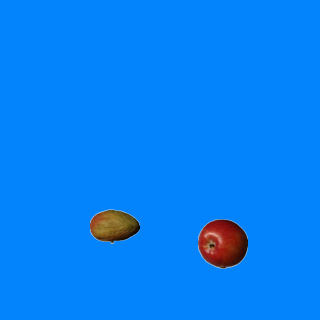Apple Braeburn: (197, 218, 247, 268)
Papaya: (89, 201, 139, 251)
